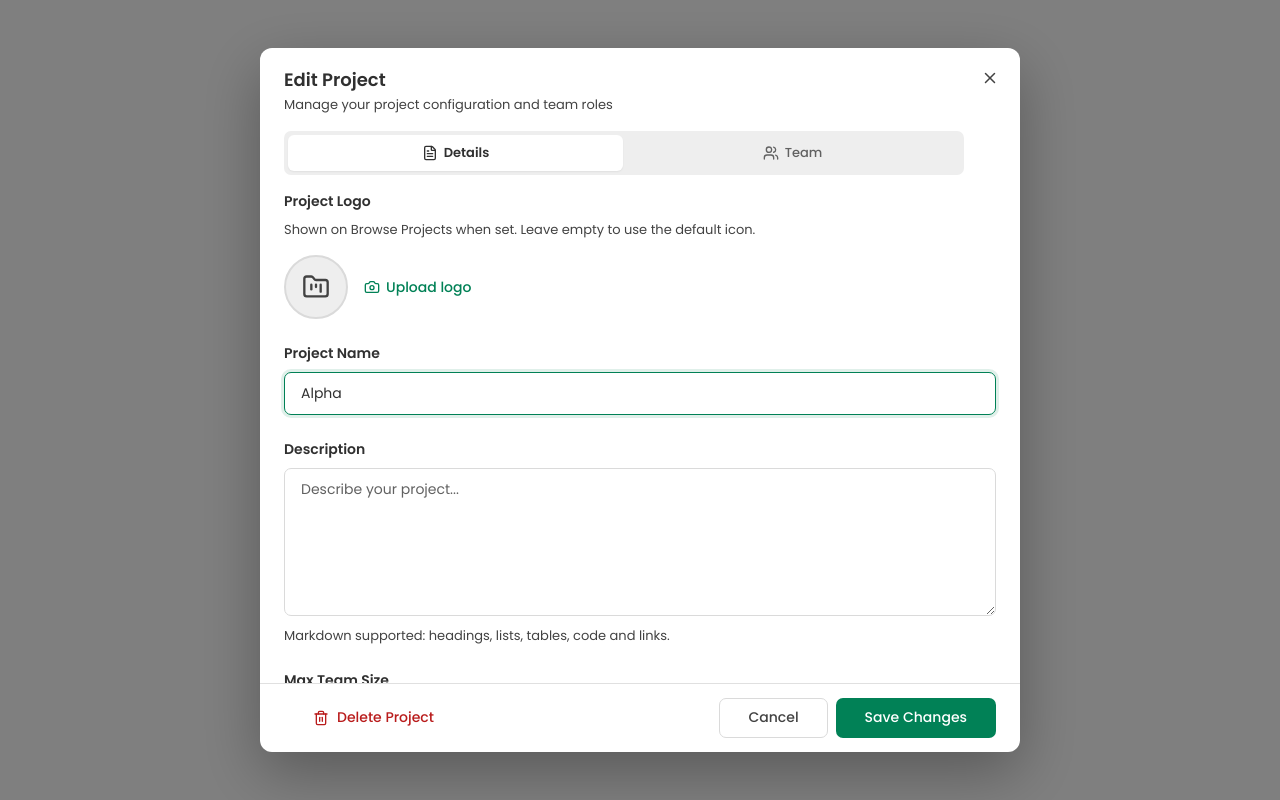
Test: EditProjectModal › shows a refused save as an alert above the actions, keeping what was typed
Type " 2" into the field named "project name" at {"x": 640, "y": 394}, box [284,372,996,415]
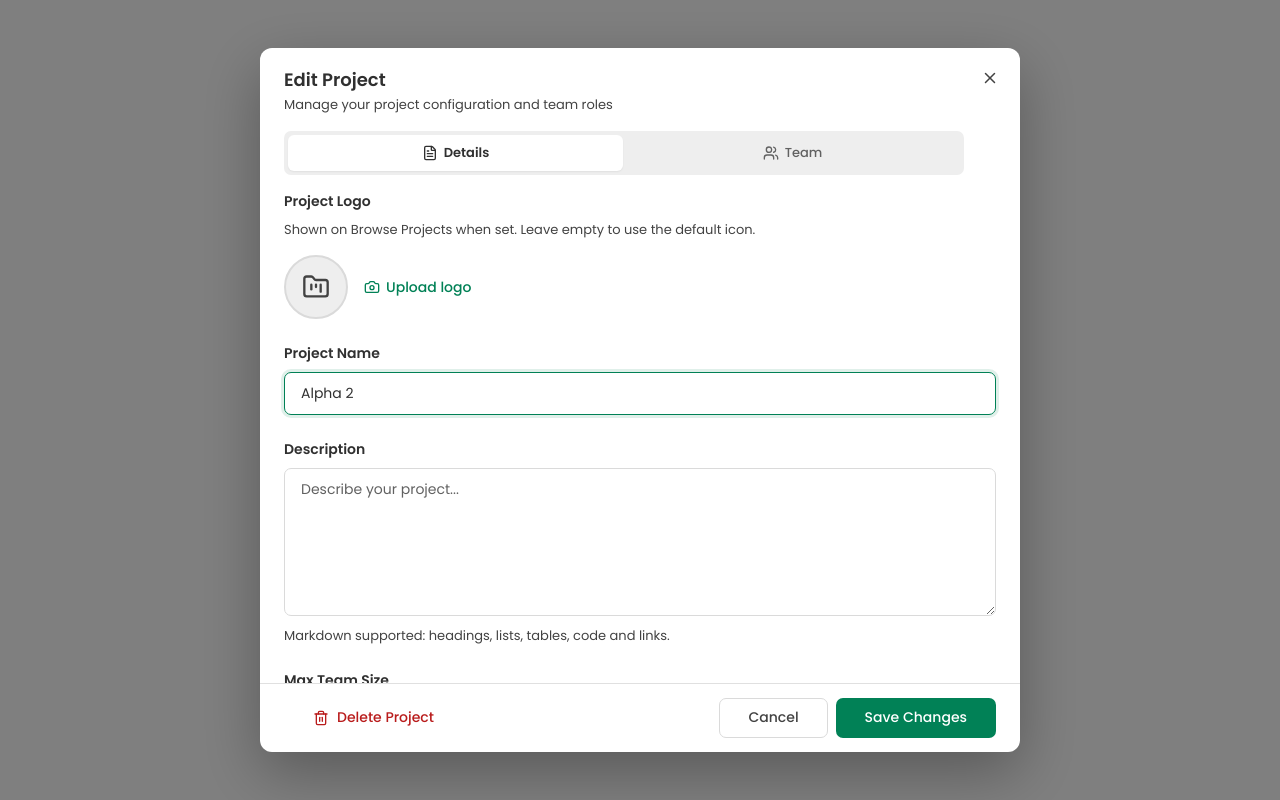
Click the button "Save Changes" at {"x": 916, "y": 718}, box [836,698,996,738]
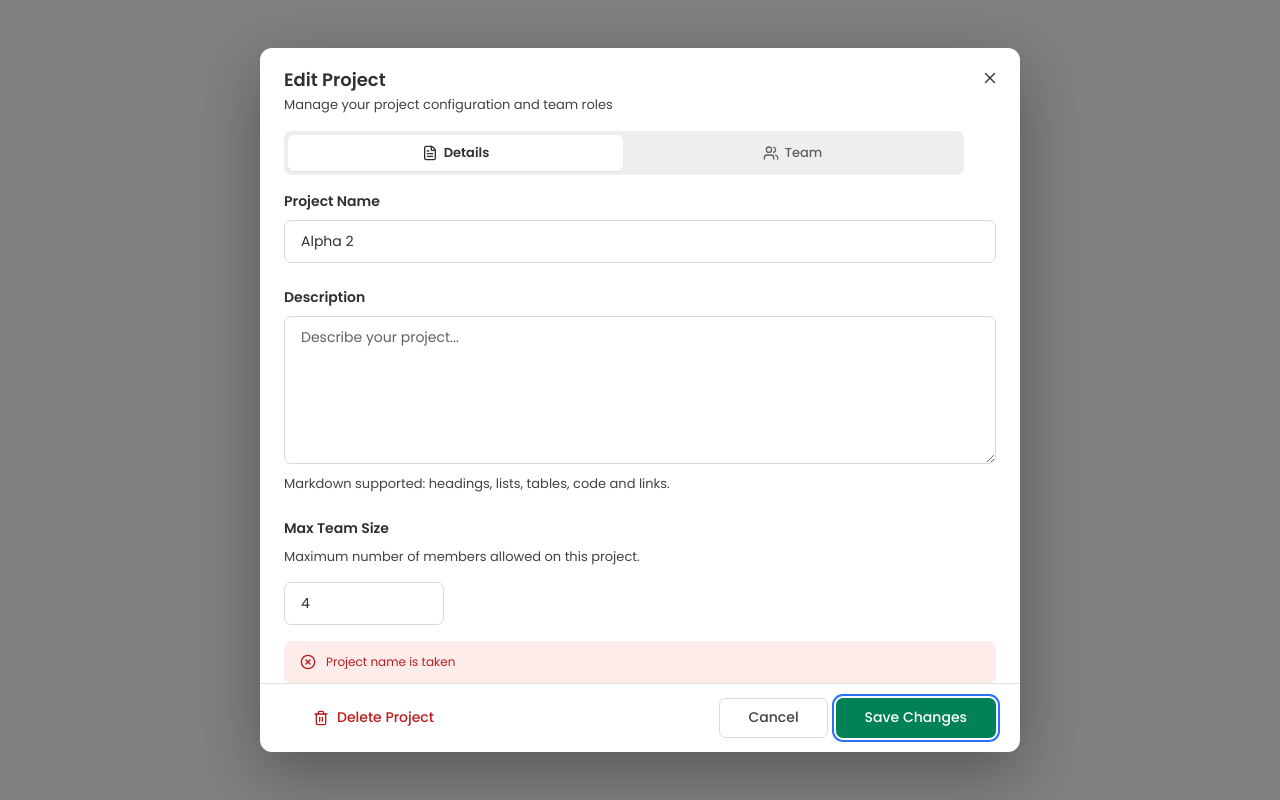
Result: the field named "project name" holds "Alpha 2" at [284,220,996,263]
Result: the message reads "Project name is taken" at [326,653,455,670]
